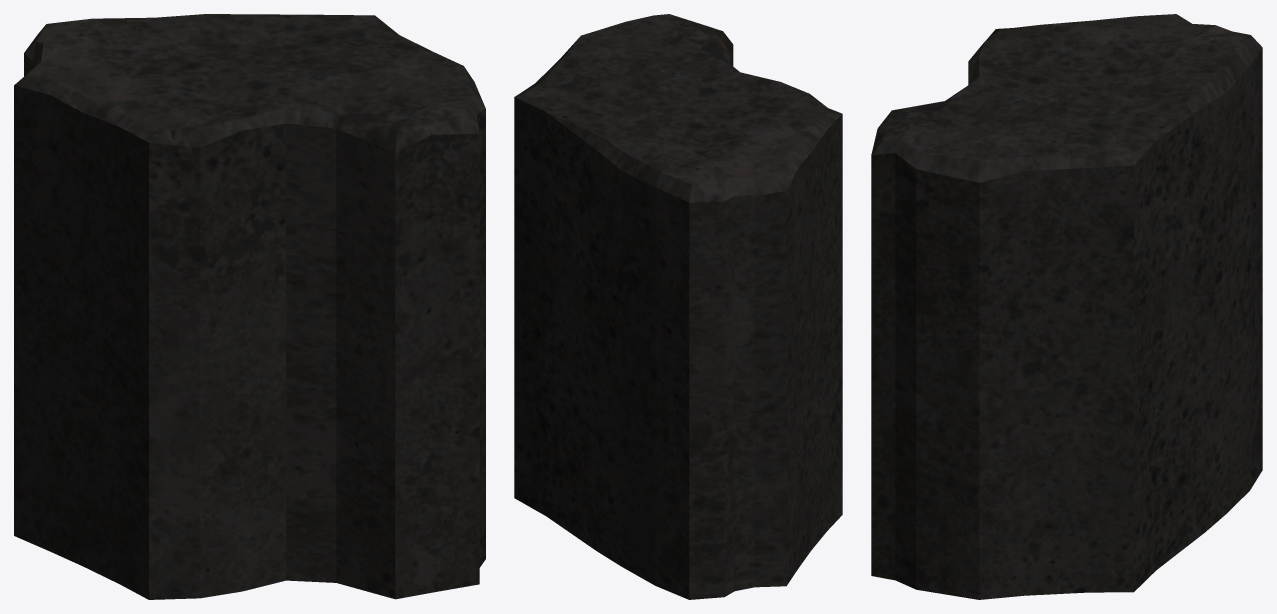
The model's file is TrapFloorS05.fbx.
3 views of the same model, side by side, from view 1: azimuth 30°, elevation 25°; view 2: azimuth 150°, elevation 25°; view 3: azimuth 270°, elevation 25° (orthographic). The views are drawn at different scales.
Visible parts, largest first — view 1: SM_ENV_NATURE_Cave_Floor_Trap_06.mo; view 2: SM_ENV_NATURE_Cave_Floor_Trap_06.mo; view 3: SM_ENV_NATURE_Cave_Floor_Trap_06.mo.
Part boxes in pixels (x1,y1,x2,y2): SM_ENV_NATURE_Cave_Floor_Trap_06.mo: [14, 14, 485, 599]; SM_ENV_NATURE_Cave_Floor_Trap_06.mo: [514, 14, 842, 599]; SM_ENV_NATURE_Cave_Floor_Trap_06.mo: [871, 14, 1262, 599].
Size of the model in its own units: 145 by 183 by 149.
Materials: 1 (1 with a texture image).
